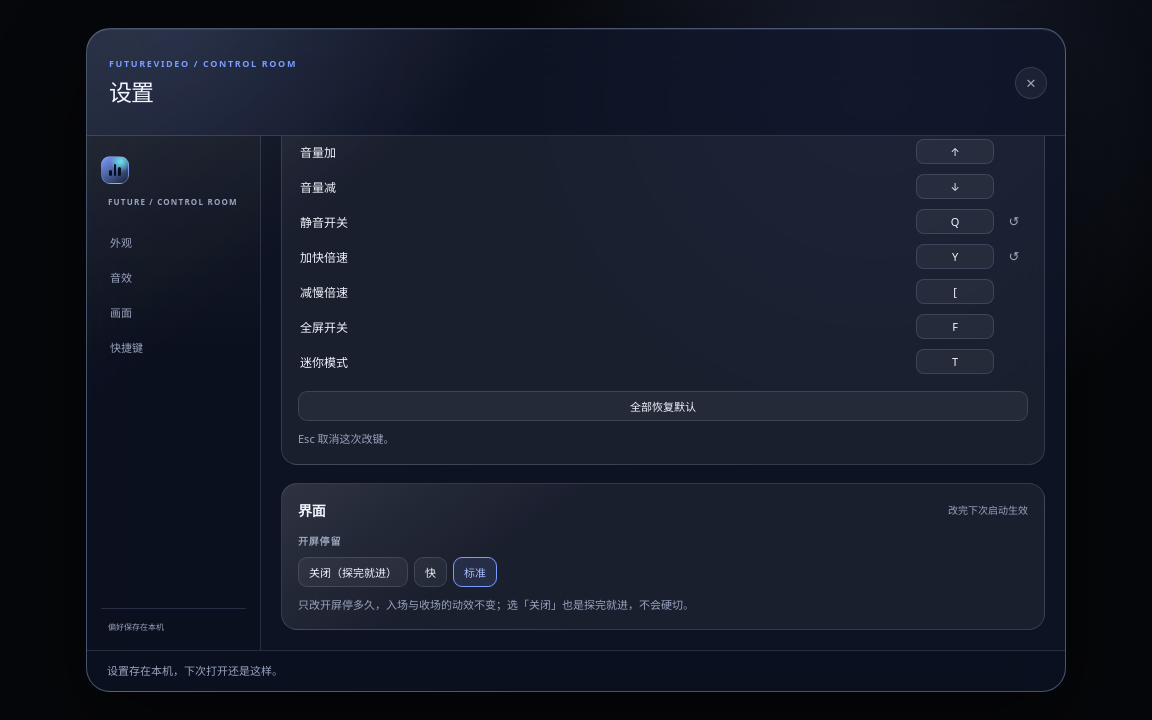
设置页 · 快捷键 › 一键全部恢复默认
(page scrolled)
What coordinates should you click on to do the following:
click the button "全部恢复默认"
I would click on:
 (663, 406)
Its box is left=298, top=391, right=1028, bottom=421.
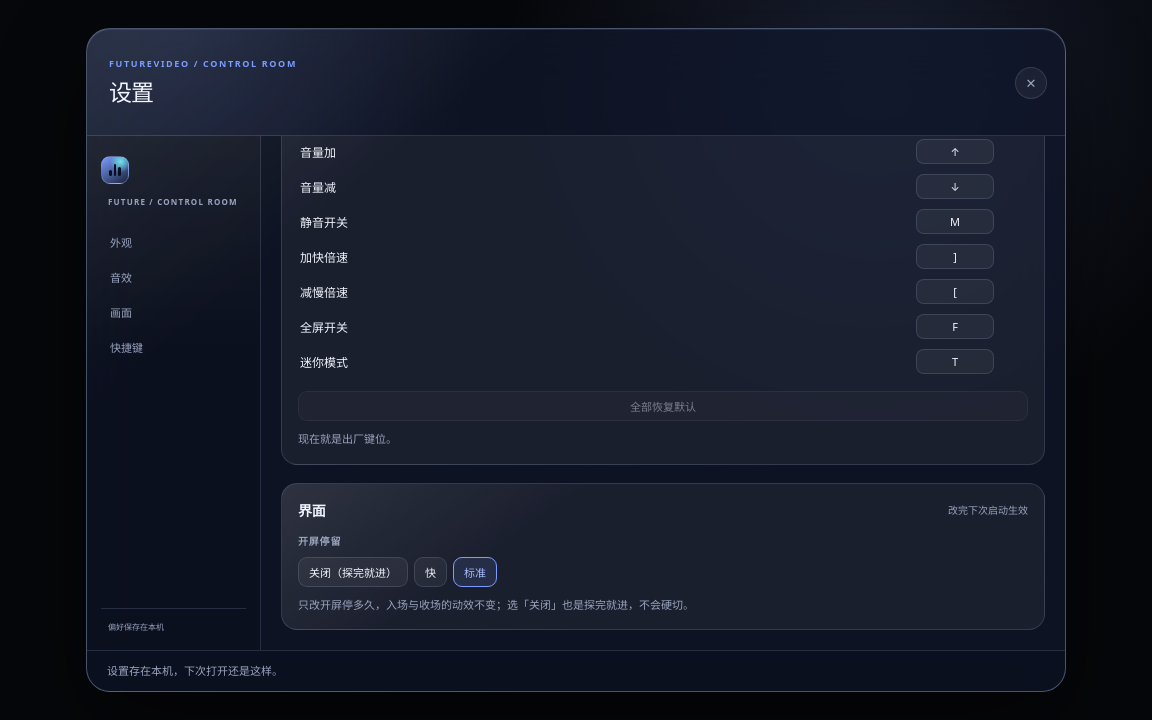
Result: the button named "静音开关 的按键" reads "M" at left=916, top=209, right=994, bottom=234
